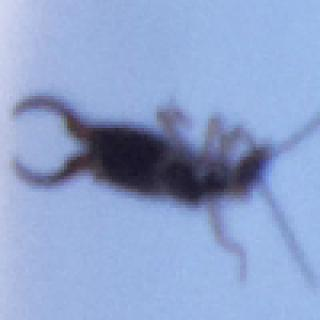earwig: (6, 90, 320, 291)
